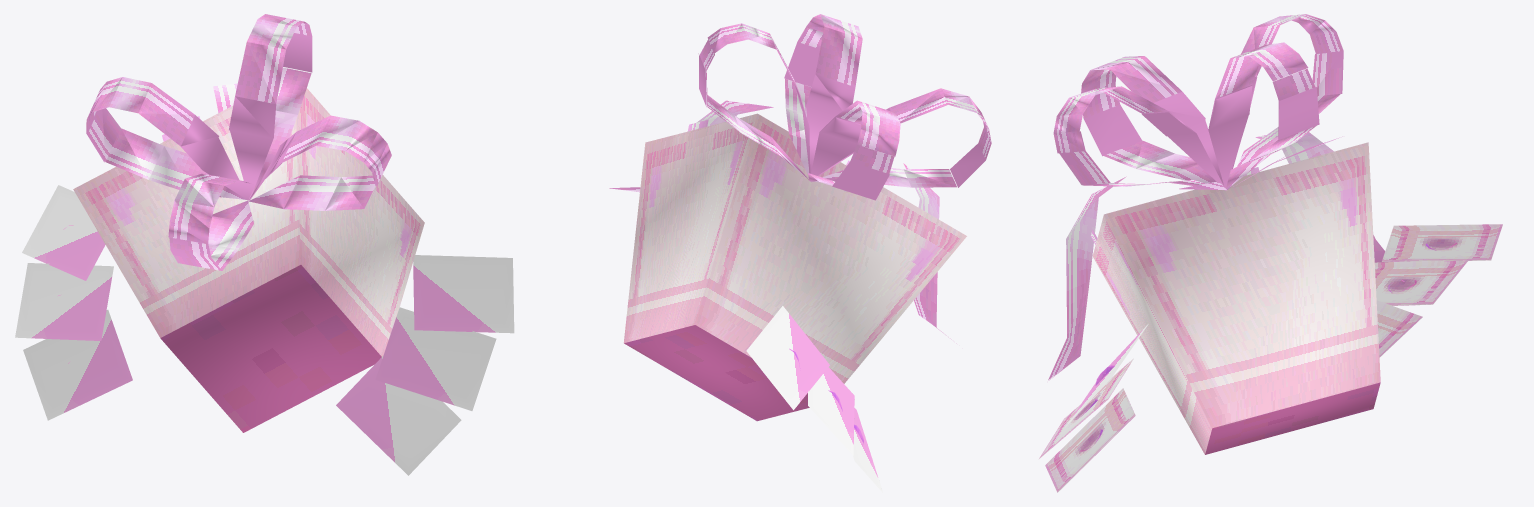
Rendered from ps2_save-icons_himehibi.glb.
3 renders of one model, left to right at view 1: azimuth 30°, elevation 25°; view 2: azimuth 150°, elevation 25°; view 3: azimuth 270°, elevation 25°, orthographic. The views are drawn at different scales.
Visible parts, largest first — view 1: hime.ico; view 2: hime.ico; view 3: hime.ico.
Part boxes in pixels (x1,y1,x2,y2): hime.ico: (15,14,514,475); hime.ico: (609,14,991,492); hime.ico: (1038,14,1502,492).
Bounding box in the file's own units: 4.7 × 4.43 × 4.72.
1 material, 1 textured.
